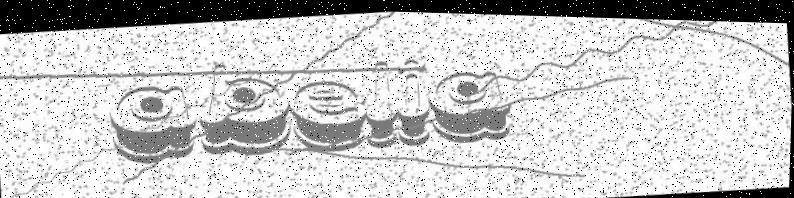a: (104, 75, 200, 167), (424, 61, 525, 147)
b: (195, 53, 300, 168)
e: (286, 66, 371, 158)
i: (392, 48, 438, 153), (362, 53, 404, 148)
